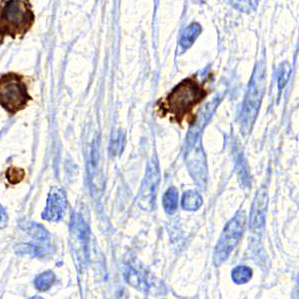Lymphocyte: (157, 77, 210, 125)
